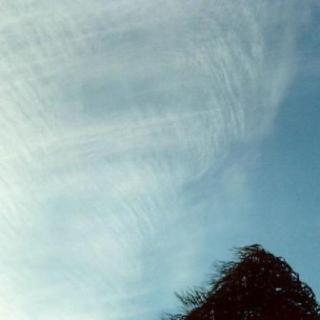Cirrocumulus: (0, 0, 289, 313)
